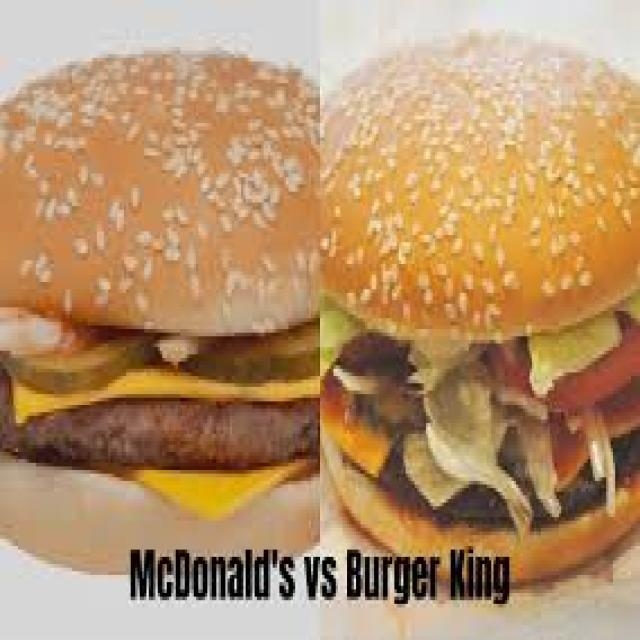햄버거: (2, 46, 319, 558), (322, 86, 640, 545)
